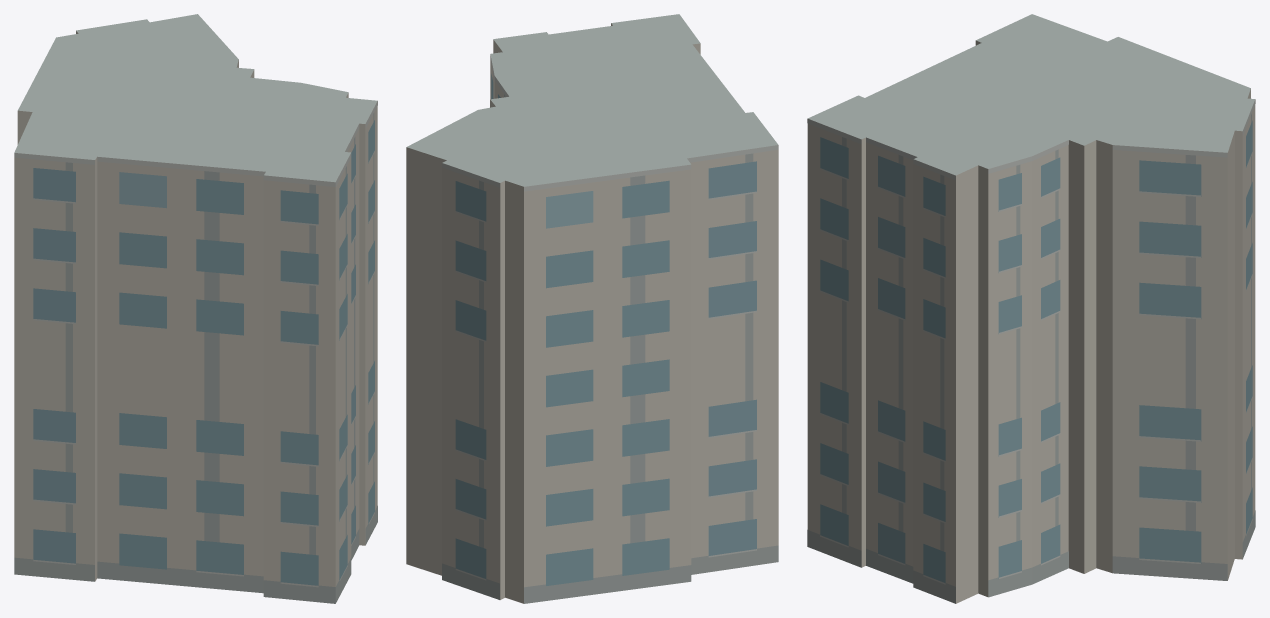
Rendered from survey-upis-32992205.glb.
The picture shows the model from 3 angles, left to right: view 1: azimuth 30°, elevation 25°; view 2: azimuth 150°, elevation 25°; view 3: azimuth 270°, elevation 25°; orthographic projection. The views are drawn at different scales.
Parts seen in each view (by area): view 1: survey-upis-32992205.tmp; view 2: survey-upis-32992205.tmp; view 3: survey-upis-32992205.tmp.
Boxes of the visible parts, x1,y1,x2,y2 form: survey-upis-32992205.tmp: (14, 14, 377, 603); survey-upis-32992205.tmp: (406, 14, 778, 603); survey-upis-32992205.tmp: (807, 14, 1255, 603).
Size of the model in its own units: 17.28 by 21.35 by 20.24.
